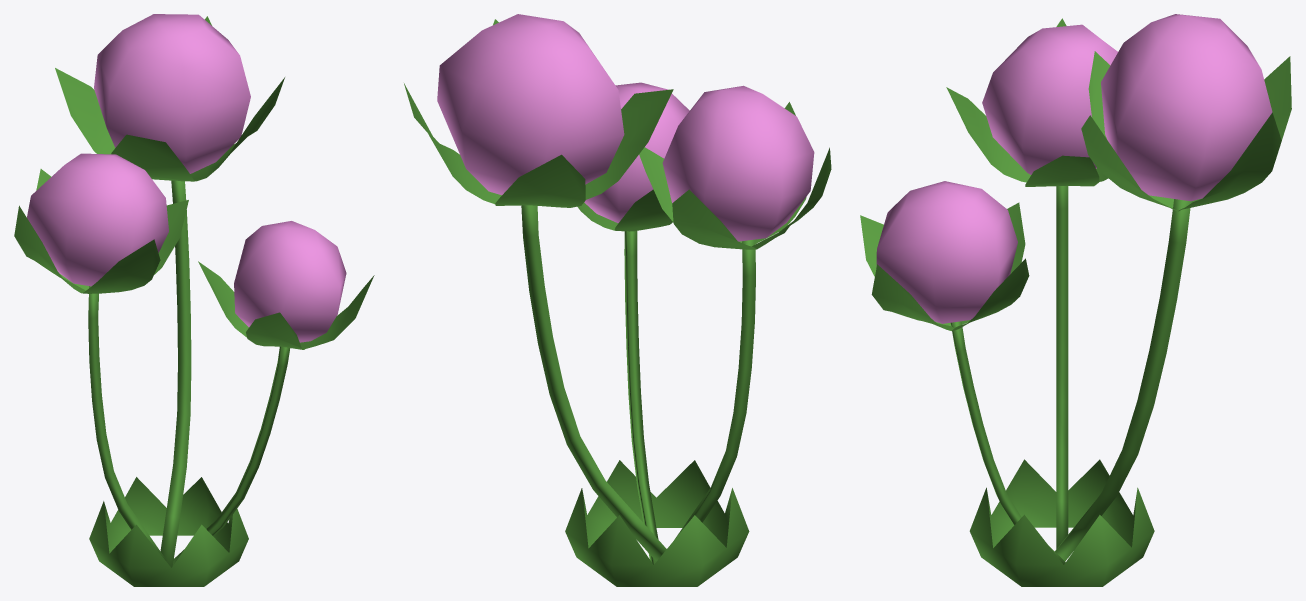
File: KleversGibrid.fbx
3 renders of one model, left to right at view 1: azimuth 30°, elevation 25°; view 2: azimuth 150°, elevation 25°; view 3: azimuth 270°, elevation 25°, orthographic. The views are drawn at different scales.
Parts seen in each view (by area): view 1: Sphere; view 2: Sphere; view 3: Sphere.
Boxes of the visible parts, x1,y1,x2,y2 form: Sphere: (14, 14, 374, 586); Sphere: (404, 14, 831, 586); Sphere: (860, 14, 1291, 586).
Bounding box in the file's own units: 31.78 × 52.99 × 35.63.
